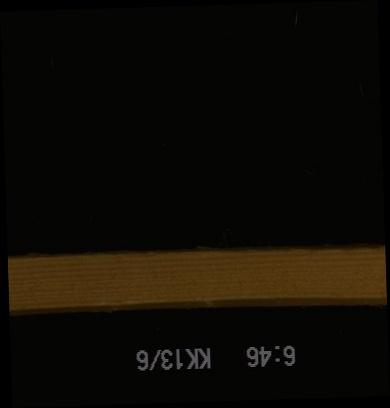wave: (6, 241, 384, 266)
